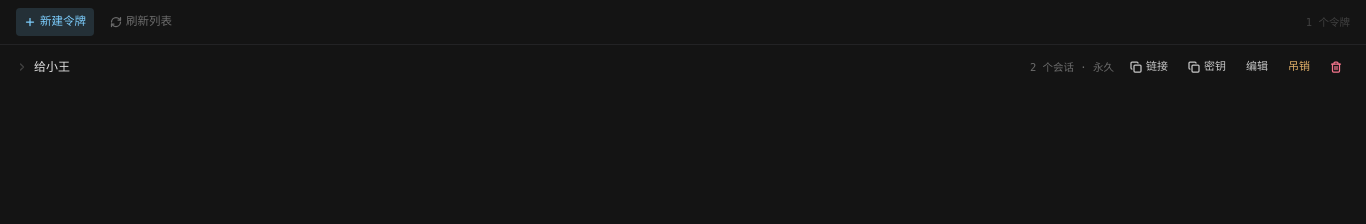
Scenario: GuestTokensPanel › 刷新：调 refreshGuestToken 并回填 stale 状态
Check: the text "给小王" is shown, box [34,58,70,76]
Click the button "给小王". click: (52, 67)
box: [16,58,1022,76]
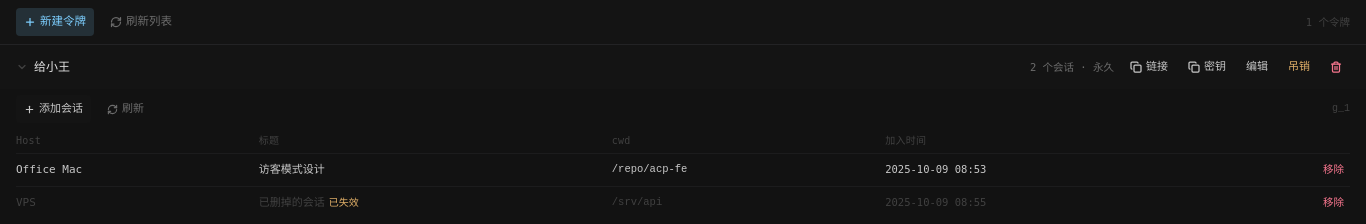
Click the button "刷新". click: (126, 109)
box: [99,95,152,123]
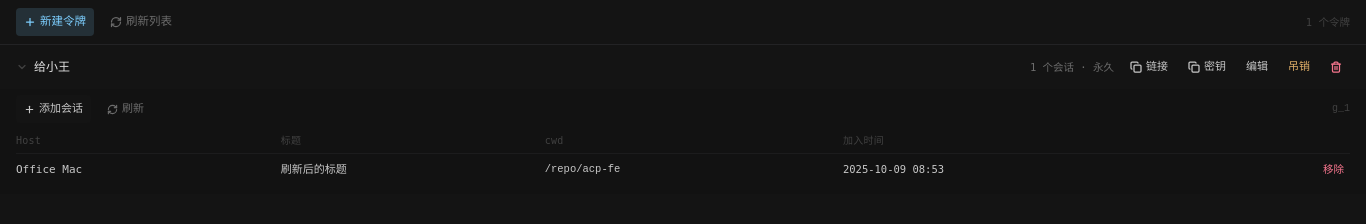
Check: the text "刷新后的标题" is shown, box [281,153,545,186]
